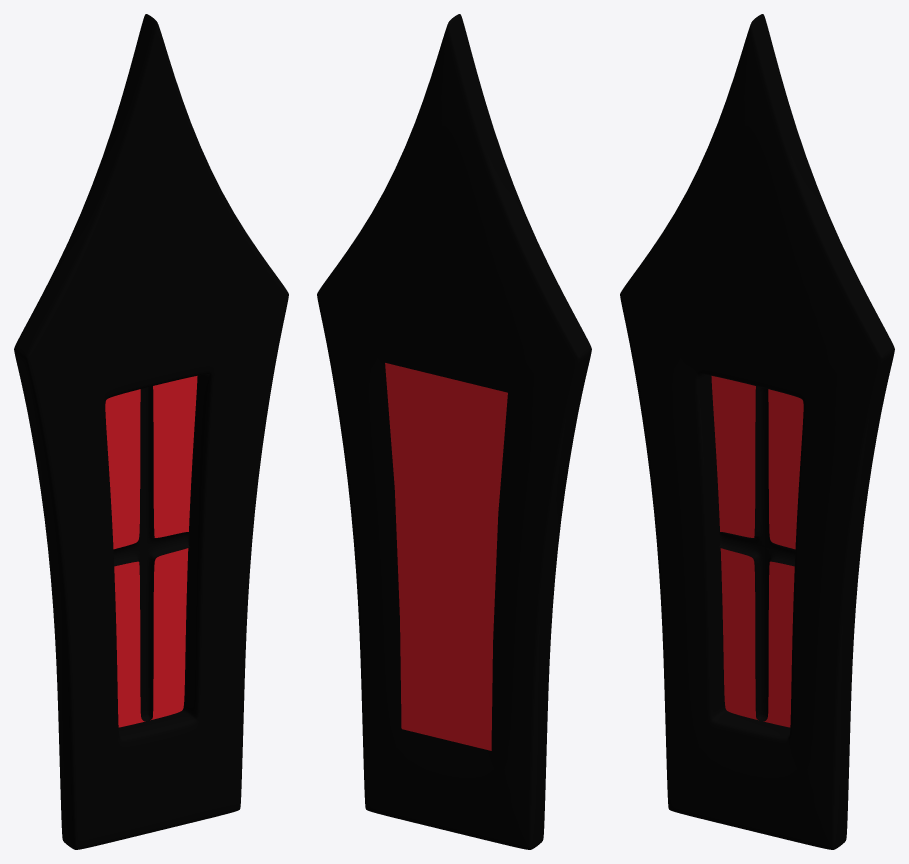
The model's file is house.glb.
3 views of the same model, side by side, from view 1: azimuth 30°, elevation 25°; view 2: azimuth 150°, elevation 25°; view 3: azimuth 330°, elevation 25° (orthographic).
Parts seen in each view (by area): view 1: House.001, Emission; view 2: House.001, Emission; view 3: House.001, Emission.
Boxes of the visible parts, bbox=[...] form: House.001: bbox=[14, 14, 288, 849]; Emission: bbox=[105, 376, 197, 727]; House.001: bbox=[317, 14, 591, 849]; Emission: bbox=[385, 363, 507, 750]; House.001: bbox=[620, 14, 894, 849]; Emission: bbox=[711, 376, 803, 727].
Size of the model in its own units: 2 by 5.88 by 0.2095.
